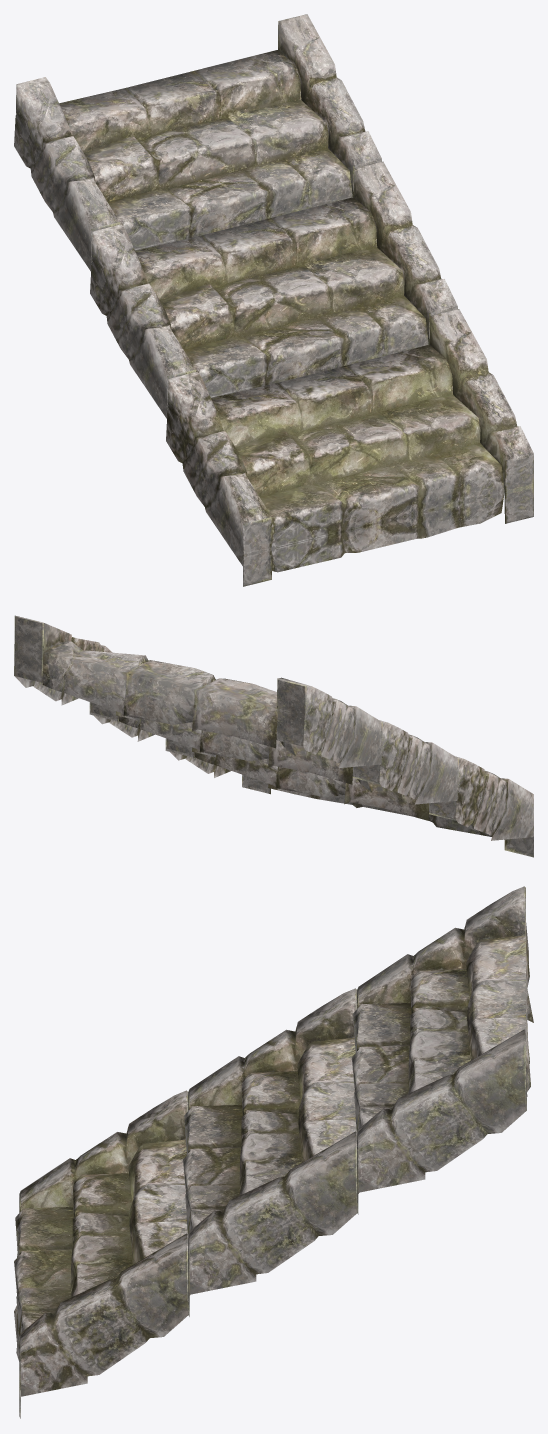
The model's file is MossyStairs.fbx.
3 renders of one model, top to bottom at view 1: azimuth 30°, elevation 25°; view 2: azimuth 150°, elevation 25°; view 3: azimuth 270°, elevation 25°, orthographic. The views are drawn at different scales.
Visible parts, largest first — view 1: defaultMaterial.002, defaultMaterial.001, defaultMaterial; view 2: defaultMaterial, defaultMaterial.002, defaultMaterial.001; view 3: defaultMaterial, defaultMaterial.002, defaultMaterial.001.
Boxes of the visible parts, x1,y1,x2,y2 form: defaultMaterial.002: [166, 309, 533, 586]; defaultMaterial.001: [90, 161, 457, 418]; defaultMaterial: [14, 14, 381, 271]; defaultMaterial: [14, 615, 381, 784]; defaultMaterial.002: [166, 738, 533, 857]; defaultMaterial.001: [90, 702, 457, 820]; defaultMaterial: [351, 886, 533, 1214]; defaultMaterial.002: [14, 1090, 189, 1418]; defaultMaterial.001: [183, 988, 358, 1316].
Size of the model in its own units: 144 by 159 by 200.
